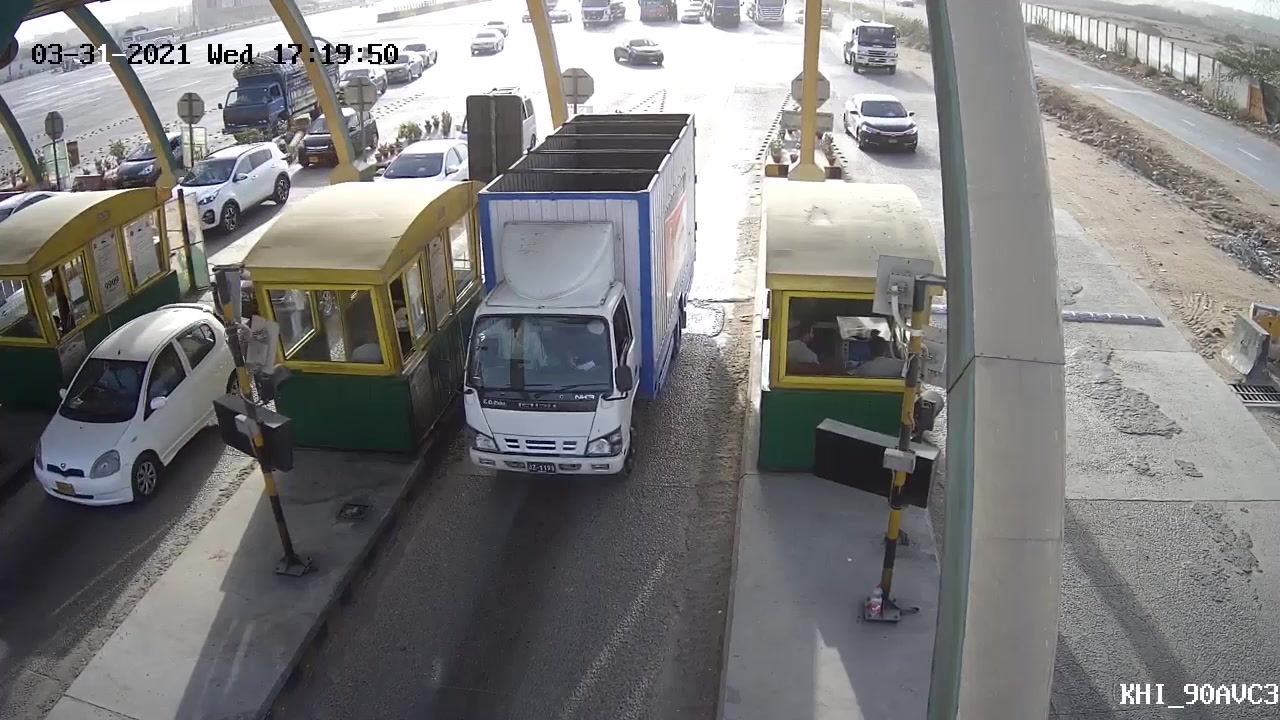F5: (445, 113, 708, 492)
